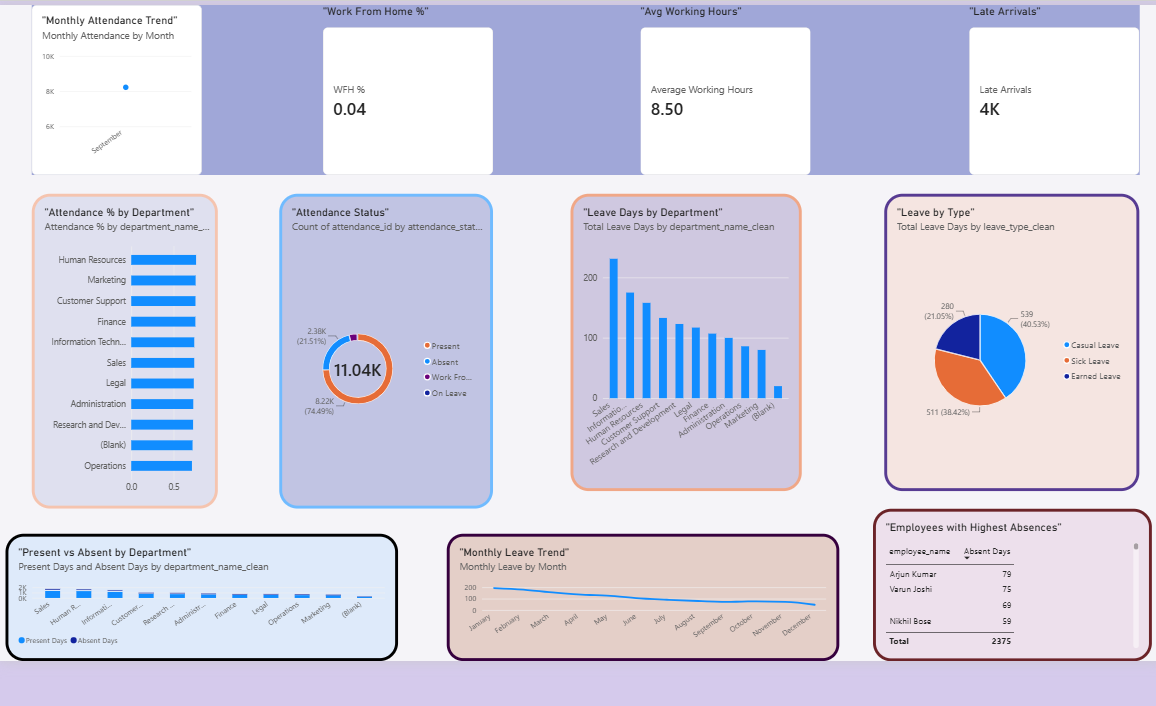

What the dashboard file says about the page in this screenshot:
{"tool":"powerbi","page":{"name":"Attendance & Leave","canvas":[1920,1080],"ordinal":1},"visuals":[{"type":"lineChart","title":"\"Monthly Attendance Trend\"","fields":{"Category":["employee_hr_analytics clean_attendance.attendance_date.Variation.Date Hierarchy.Month"],"Y":["_Measures.Monthly Attendance"]},"box":[55.6,0,280,280],"z":0,"group":"g1"},{"type":"clusteredBarChart","title":"\"Attendance % by Department\"","fields":{"Category":["employee_hr_analytics clean_departments.department_name_clean"],"Y":["_Measures.Attendance %"]},"box":[55.6,310.8,306.7,518.7],"z":1},{"type":"donutChart","title":"\"Attendance Status\"","fields":{"Category":["employee_hr_analytics clean_attendance.attendance_status_clean"],"Y":["CountNonNull(employee_hr_analytics clean_attendance.attendance_id)"]},"box":[463.1,310.8,352,518.7],"z":2},{"type":"columnChart","title":"\"Present vs Absent by Department\"","fields":{"Category":["employee_hr_analytics clean_departments.department_name_clean"],"Y":["_Measures.Present Days","_Measures.Absent Days"]},"box":[12.3,870.7,646.3,209.9],"z":3},{"type":"cardVisual","title":"\"Work From Home %\"","fields":{"Data":["_Measures.WFH %"]},"box":[535.2,0,280,280],"z":4,"group":"g1"},{"type":"cardVisual","title":"\"Late Arrivals\"","fields":{"Data":["_Measures.Late Arrivals"]},"box":[1599.3,0,280,280],"z":5,"group":"g1"},{"type":"cardVisual","title":"\"Avg Working Hours\"","fields":{"Data":["_Measures.Average Working Hours"]},"box":[1058,0,280,280],"z":6,"group":"g1"},{"type":"pieChart","title":"\"Leave by Type\"","fields":{"Category":["employee_hr_analytics clean_leaves.leave_type_clean"],"Y":["_Measures.Total Leave Days"]},"box":[1459.4,310.8,419.9,489.9],"z":7},{"type":"clusteredColumnChart","title":"\"Leave Days by Department\"","fields":{"Category":["employee_hr_analytics clean_departments.department_name_clean"],"Y":["_Measures.Total Leave Days"]},"box":[942.7,310.8,380.8,489.9],"z":8},{"type":"lineChart","title":"\"Monthly Leave Trend\"","fields":{"Category":["employee_hr_analytics clean_leaves.start_date.Variation.Date Hierarchy.Month"],"Y":["_Measures.Monthly Leave"]},"box":[738.9,870.7,646.3,209.9],"z":9},{"type":"tableEx","title":"\"Employees with Highest Absences\"","fields":{"Values":["employee_hr_analytics clean_employees.employee_name","_Measures.Absent Days"]},"box":[1440.8,829.5,459,251.1],"z":10},{"type":"group","id":"g1","title":"Group 1","box":[55.6,0,1823.7,280],"z":11}]}

Visuals, with their boxes in screenshot pixels (x1, y1, x2, y2):
""Monthly Attendance Trend"" lineChart: l=19, t=0, r=192, b=169
""Attendance % by Department"" clusteredBarChart: l=19, t=188, r=208, b=508
""Attendance Status"" donutChart: l=270, t=188, r=487, b=508
""Present vs Absent by Department"" columnChart: l=0, t=533, r=390, b=662
""Work From Home %"" cardVisual: l=314, t=0, r=487, b=169
""Late Arrivals"" cardVisual: l=969, t=0, r=1142, b=169
""Avg Working Hours"" cardVisual: l=636, t=0, r=809, b=169
""Leave by Type"" pieChart: l=883, t=188, r=1142, b=490
""Leave Days by Department"" clusteredColumnChart: l=565, t=188, r=800, b=490
""Monthly Leave Trend"" lineChart: l=440, t=533, r=838, b=662
""Employees with Highest Absences"" tableEx: l=872, t=508, r=1154, b=662
"Group 1" group: l=19, t=0, r=1142, b=169
